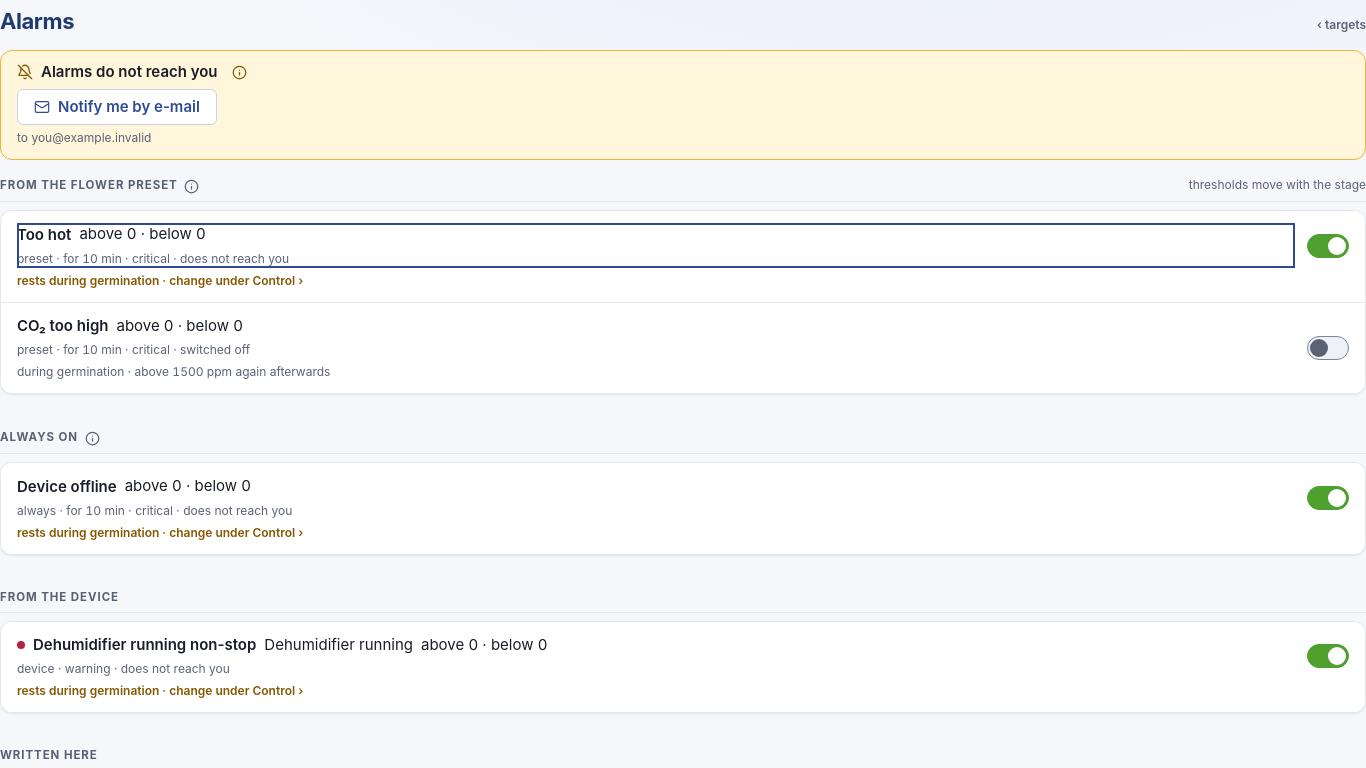
Test: the rule sheet › holds the keyboard inside itself, closes on Escape and hands the focus back
Click the button "Too hot": (44, 234) [17, 223, 1295, 268]
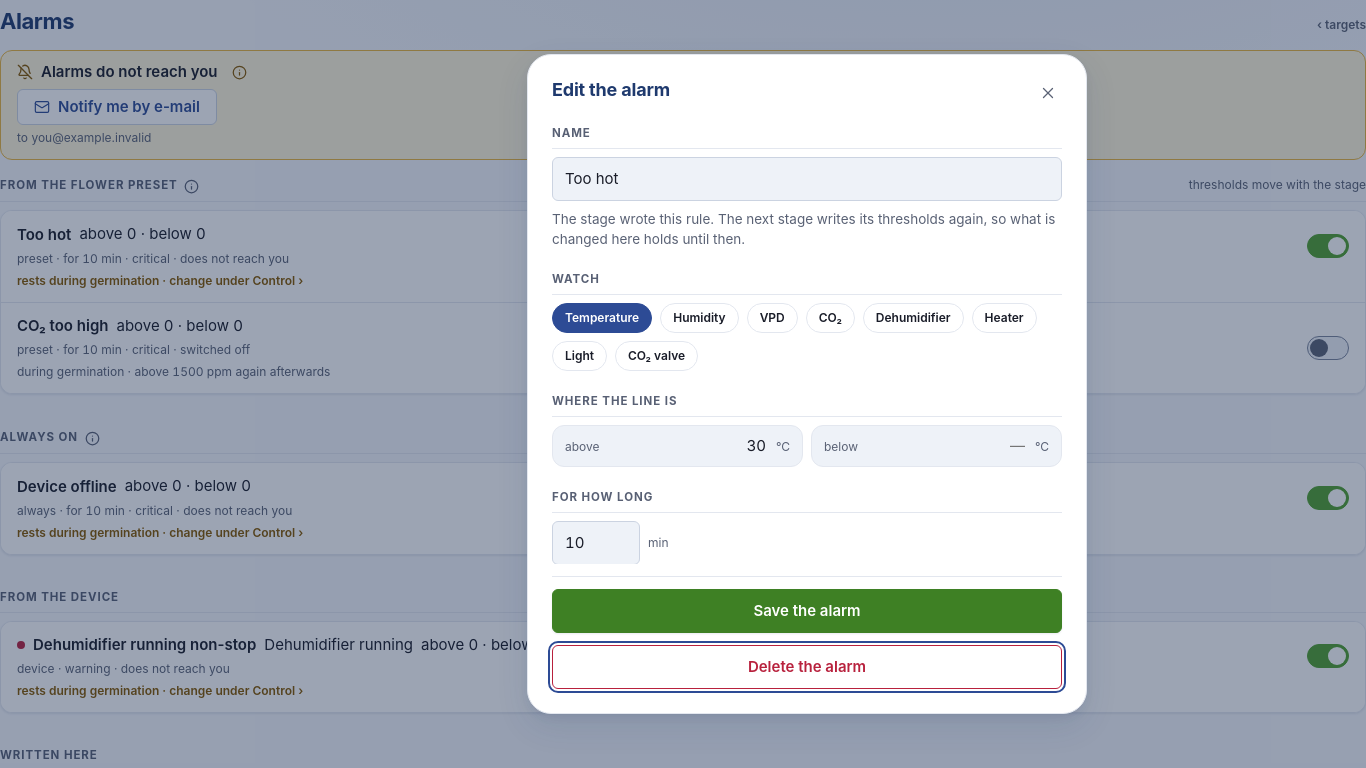
Press Tab
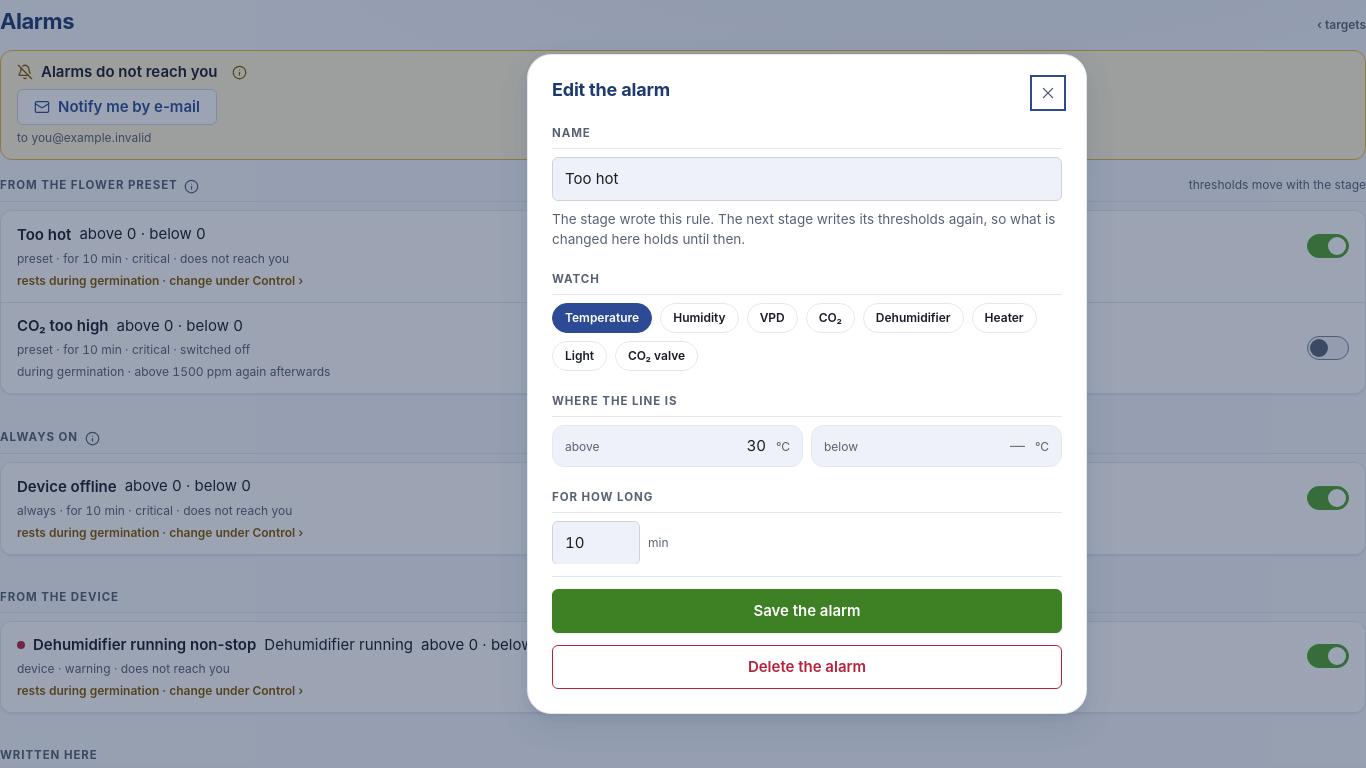
Press Tab
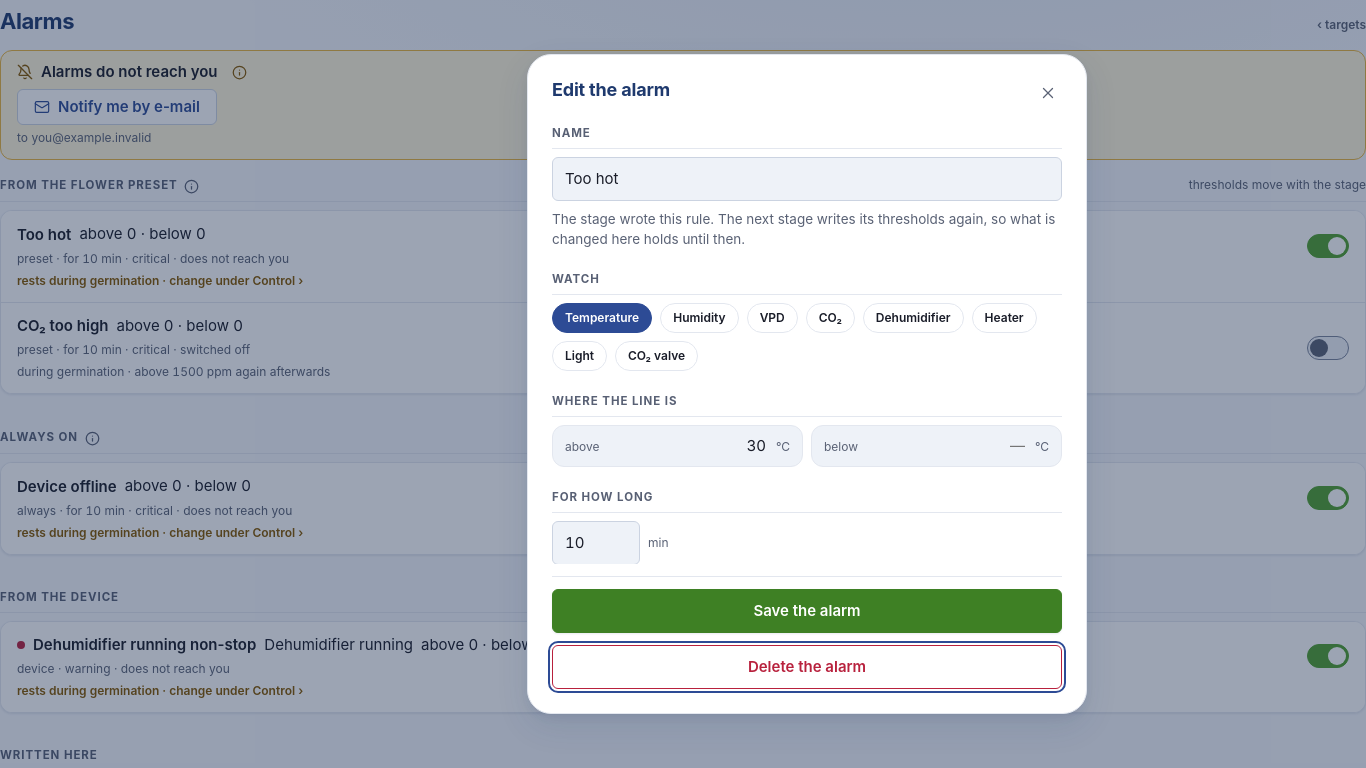
Press Escape
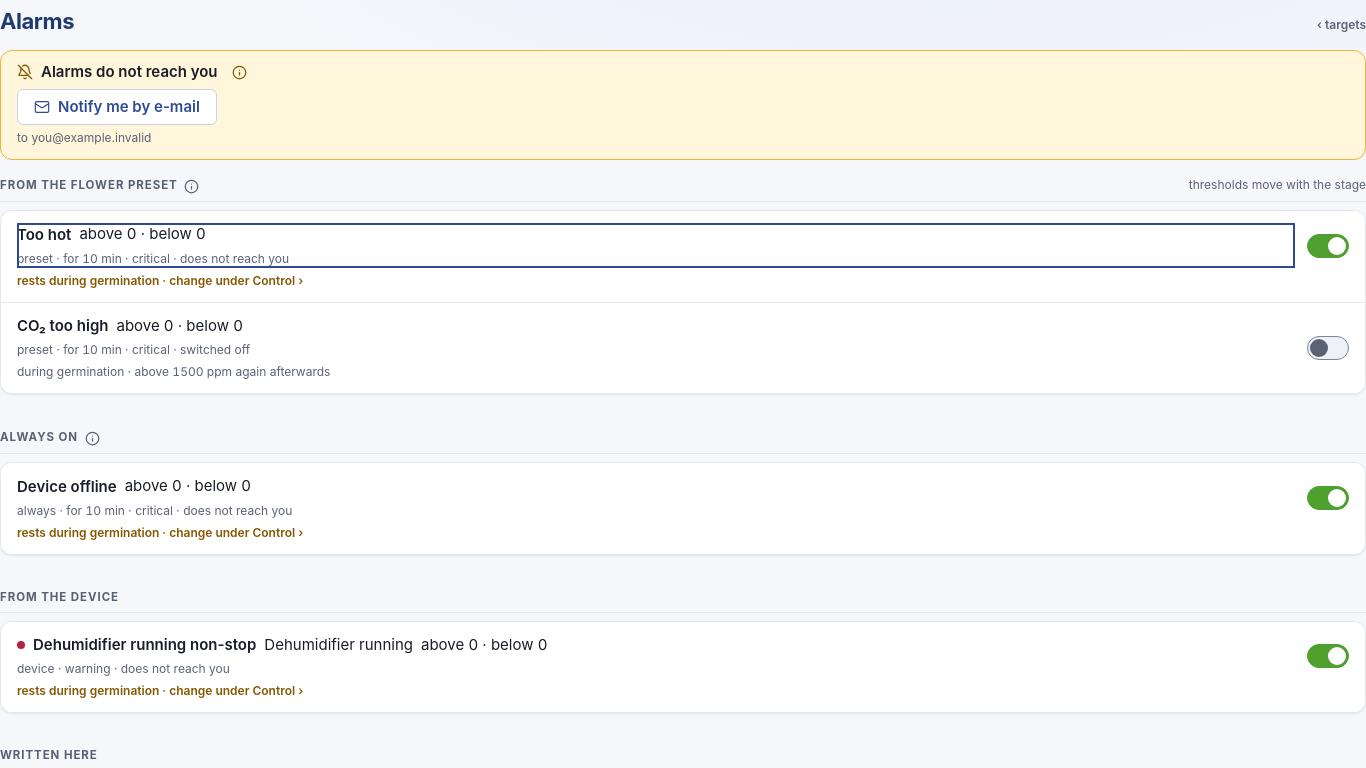
Check: the dialog is gone
